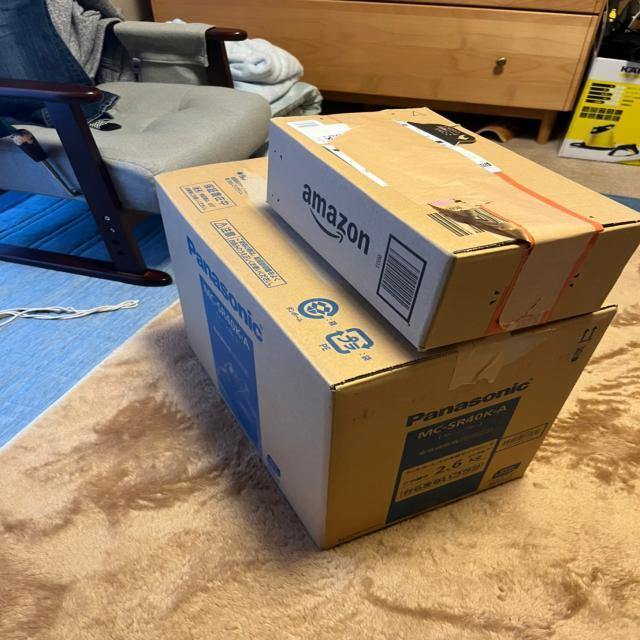box: (146, 140, 625, 555), (259, 102, 640, 357)
